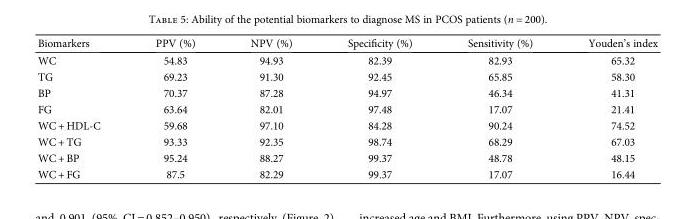table: (36, 36, 656, 180)
table column: (319, 36, 439, 180), (439, 36, 559, 180), (222, 36, 319, 180), (559, 36, 656, 180), (127, 36, 222, 180), (36, 36, 127, 180)
table column header: (36, 36, 656, 51)
table row: (36, 51, 656, 68), (36, 100, 656, 117), (36, 68, 656, 84), (36, 84, 656, 100), (36, 117, 656, 133), (36, 133, 656, 149), (36, 149, 656, 165), (36, 36, 656, 51), (36, 165, 656, 180)
